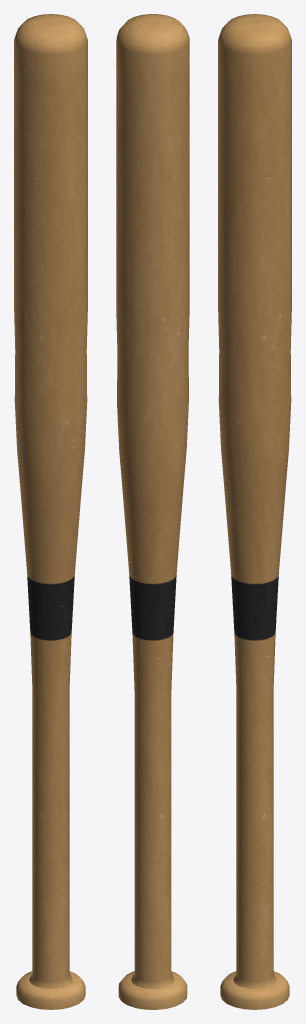
The model's file is baseball_bat.glb.
3 renders of one model, left to right at view 1: azimuth 90°, elevation 25°; view 2: azimuth 150°, elevation 25°; view 3: azimuth 270°, elevation 25°, orthographic.
Visible parts, largest first — view 1: Object_2; view 2: Object_2; view 3: Object_2.
Boxes of the visible parts, bbox=[...] form: Object_2: bbox=[14, 14, 87, 1009]; Object_2: bbox=[116, 14, 189, 1009]; Object_2: bbox=[218, 14, 291, 1009].
Size of the model in its own units: 1.38 by 19.97 by 1.38.
Materials: 1 (1 with a texture image).
